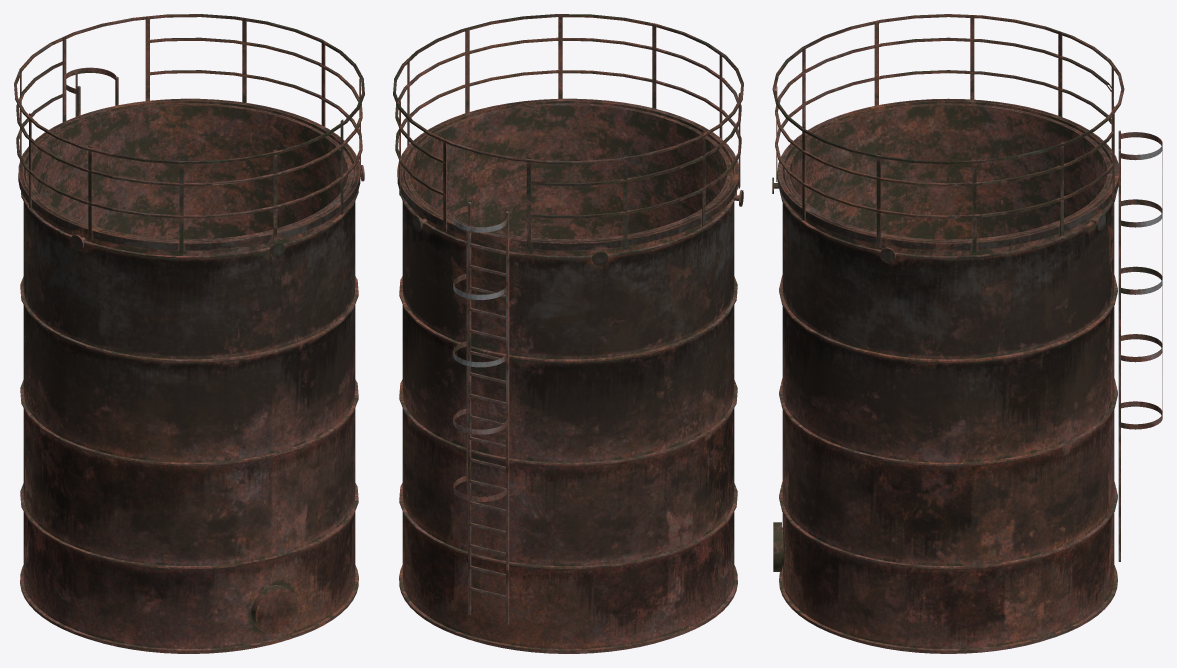
Rendered from barrel.obj.
The picture shows the model from 3 angles, left to right: view 1: azimuth 30°, elevation 25°; view 2: azimuth 150°, elevation 25°; view 3: azimuth 270°, elevation 25°; orthographic projection.
Visible parts, largest first — view 1: STORAGE_TANK.009; view 2: STORAGE_TANK.009; view 3: STORAGE_TANK.009.
Part boxes in pixels (x1=…): STORAGE_TANK.009: x1=14, y1=14, x2=364, y2=653; STORAGE_TANK.009: x1=393, y1=14, x2=743, y2=653; STORAGE_TANK.009: x1=772, y1=14, x2=1162, y2=653.
Size of the model in its own units: 2.12 by 3.32 by 2.36.
Materials: 1 (1 with a texture image).
